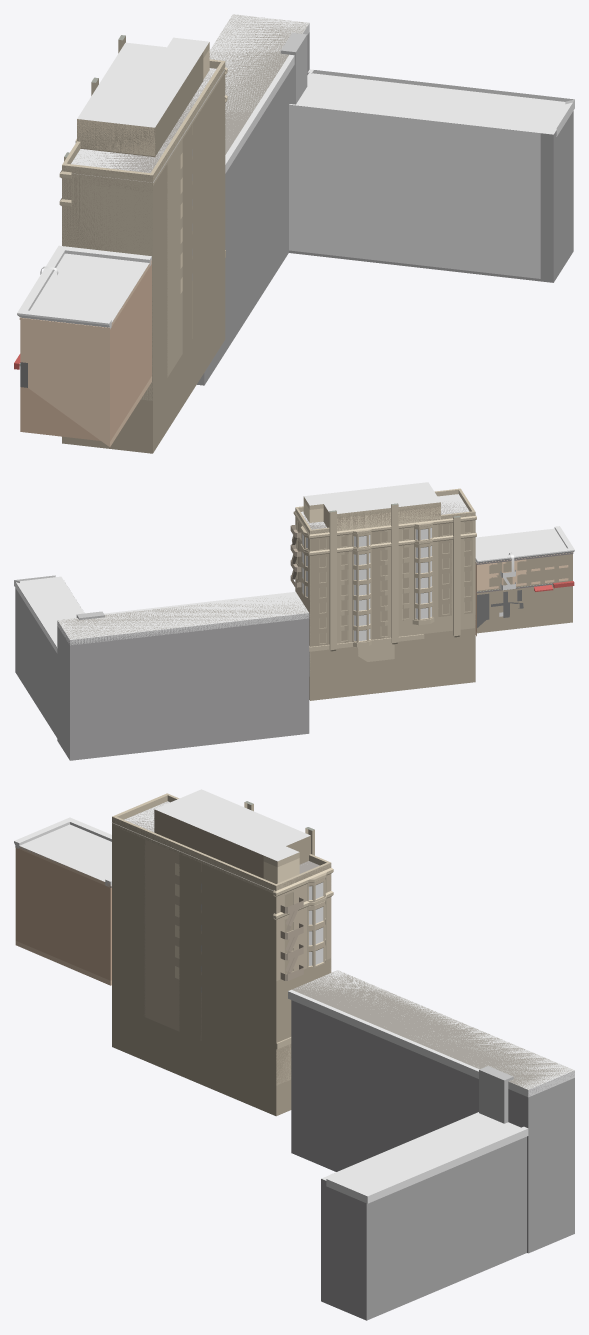
File: city_block7.dae
3 views of the same model, one above another, from view 1: azimuth 30°, elevation 25°; view 2: azimuth 150°, elevation 25°; view 3: azimuth 270°, elevation 25° (orthographic). The views are drawn at different scales.
Parts seen in each view (by area): view 1: city_block7_a2000, city_block7_a500; view 2: city_block7_a500, city_block7_a2000; view 3: city_block7_a500, city_block7_a2000.
Part boxes in pixels (x1,y1,x2,y2): city_block7_a2000: (14, 14, 574, 446); city_block7_a500: (20, 14, 573, 453); city_block7_a500: (15, 502, 572, 760); city_block7_a2000: (14, 482, 574, 676); city_block7_a500: (15, 802, 574, 1320); city_block7_a2000: (14, 789, 574, 1203).
Size of the model in its own units: 109 by 86.33 by 50.19.
